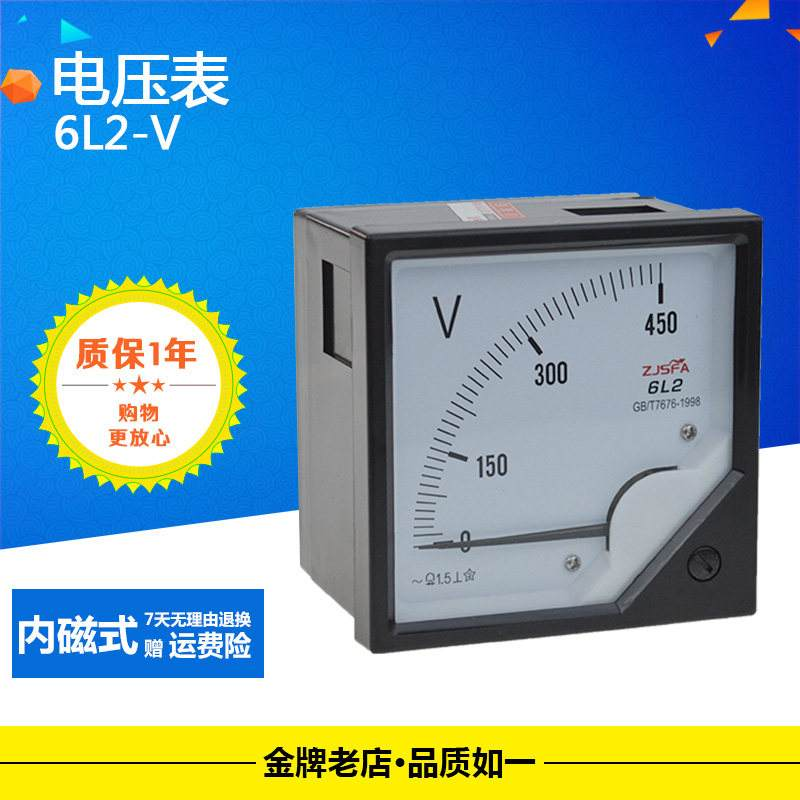pointer: (383, 242, 735, 630)
